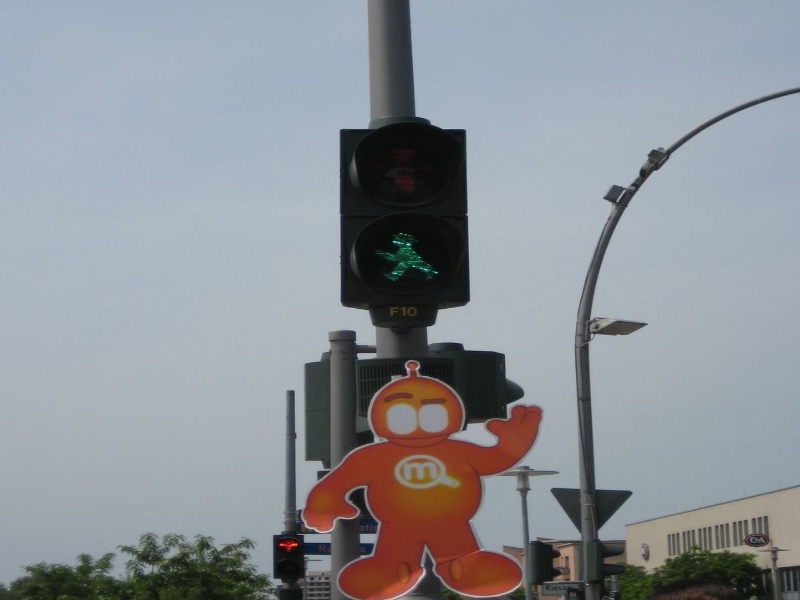pedestrian_crossing_green: (374, 228, 443, 290)
